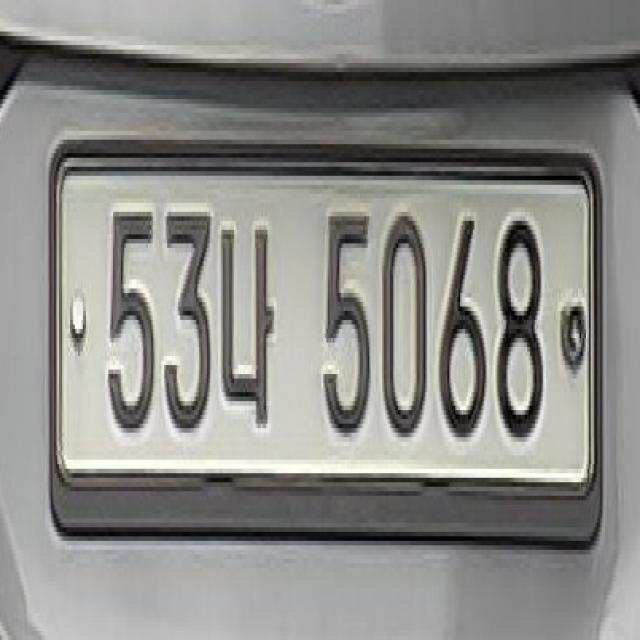0: (377, 198, 435, 442)
3: (156, 198, 217, 428)
5: (318, 185, 372, 437), (107, 198, 159, 428)
6: (432, 198, 494, 446)
8: (498, 198, 554, 446)
license_plate: (44, 135, 602, 550)
na: (212, 212, 278, 433)
